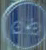bike lane: (4, 1, 45, 47)
